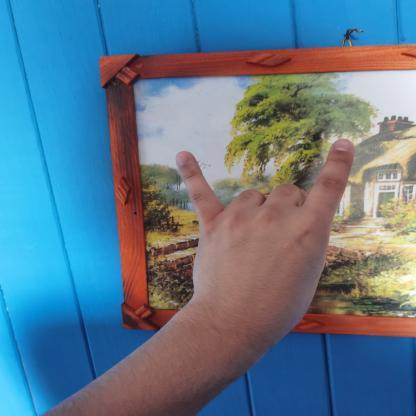U: (172, 140, 353, 325)
